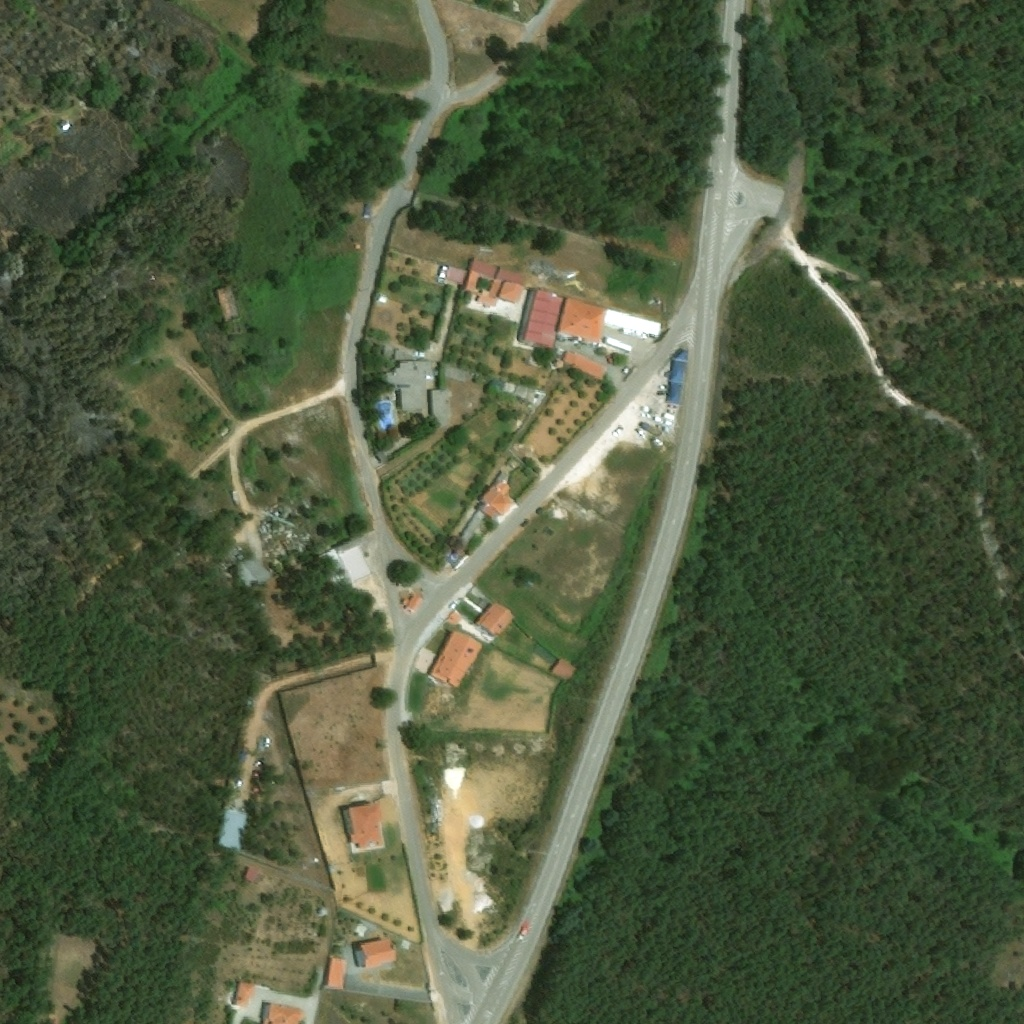0 no-damage: (374, 362, 433, 422), (429, 628, 480, 690), (524, 291, 562, 348), (559, 298, 604, 342), (229, 554, 270, 591), (214, 809, 248, 849), (349, 804, 380, 847), (561, 351, 605, 381), (665, 349, 686, 406), (476, 605, 513, 635), (359, 937, 396, 967), (215, 285, 241, 325), (259, 1001, 304, 1023), (430, 390, 448, 426), (496, 282, 523, 305), (551, 660, 576, 681), (326, 959, 344, 988), (234, 984, 254, 1006), (469, 261, 496, 277), (491, 495, 513, 514), (463, 270, 479, 295), (496, 269, 522, 283), (443, 267, 464, 284), (401, 594, 419, 613), (481, 485, 497, 506), (245, 869, 257, 885), (501, 385, 515, 393), (362, 205, 370, 218)
